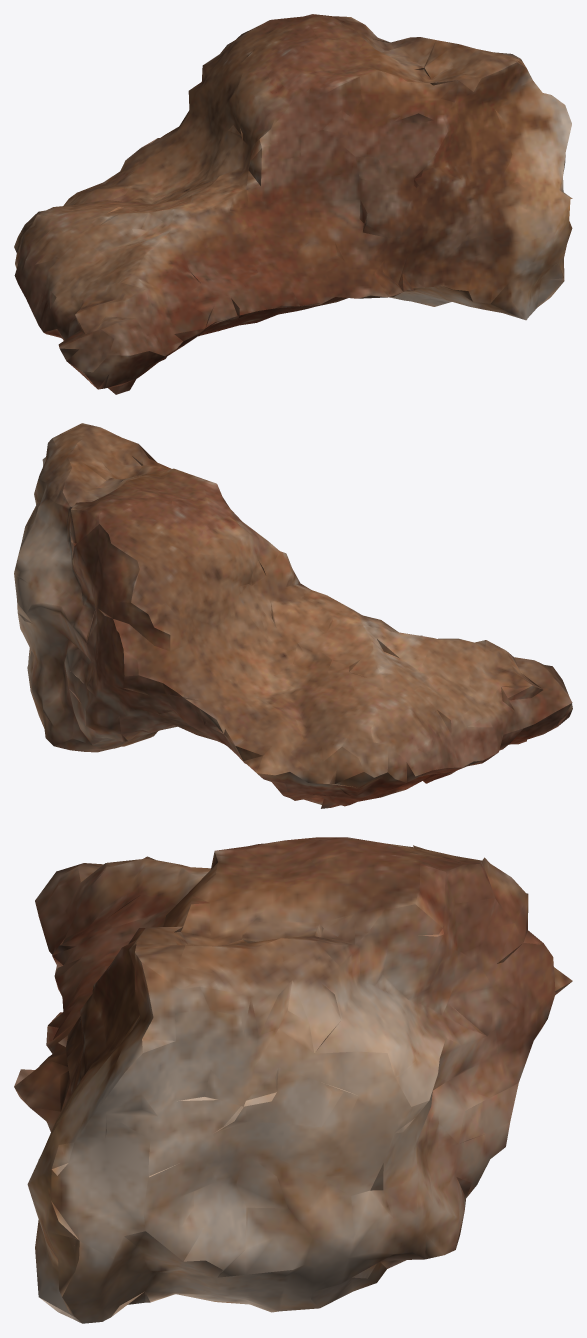
File: rock_zen.glb
3 views of the same model, one above another, from view 1: azimuth 30°, elevation 25°; view 2: azimuth 150°, elevation 25°; view 3: azimuth 270°, elevation 25° (orthographic). The views are drawn at different scales.
Visible parts, largest first — view 1: mesh; view 2: mesh; view 3: mesh.
Boxes of the visible parts, x1,y1,x2,y2 form: mesh: (14, 14, 572, 394); mesh: (14, 423, 572, 808); mesh: (14, 837, 572, 1323).
Size of the model in its own units: 1.97 by 0.96 by 1.2.
1 material, 1 textured.
